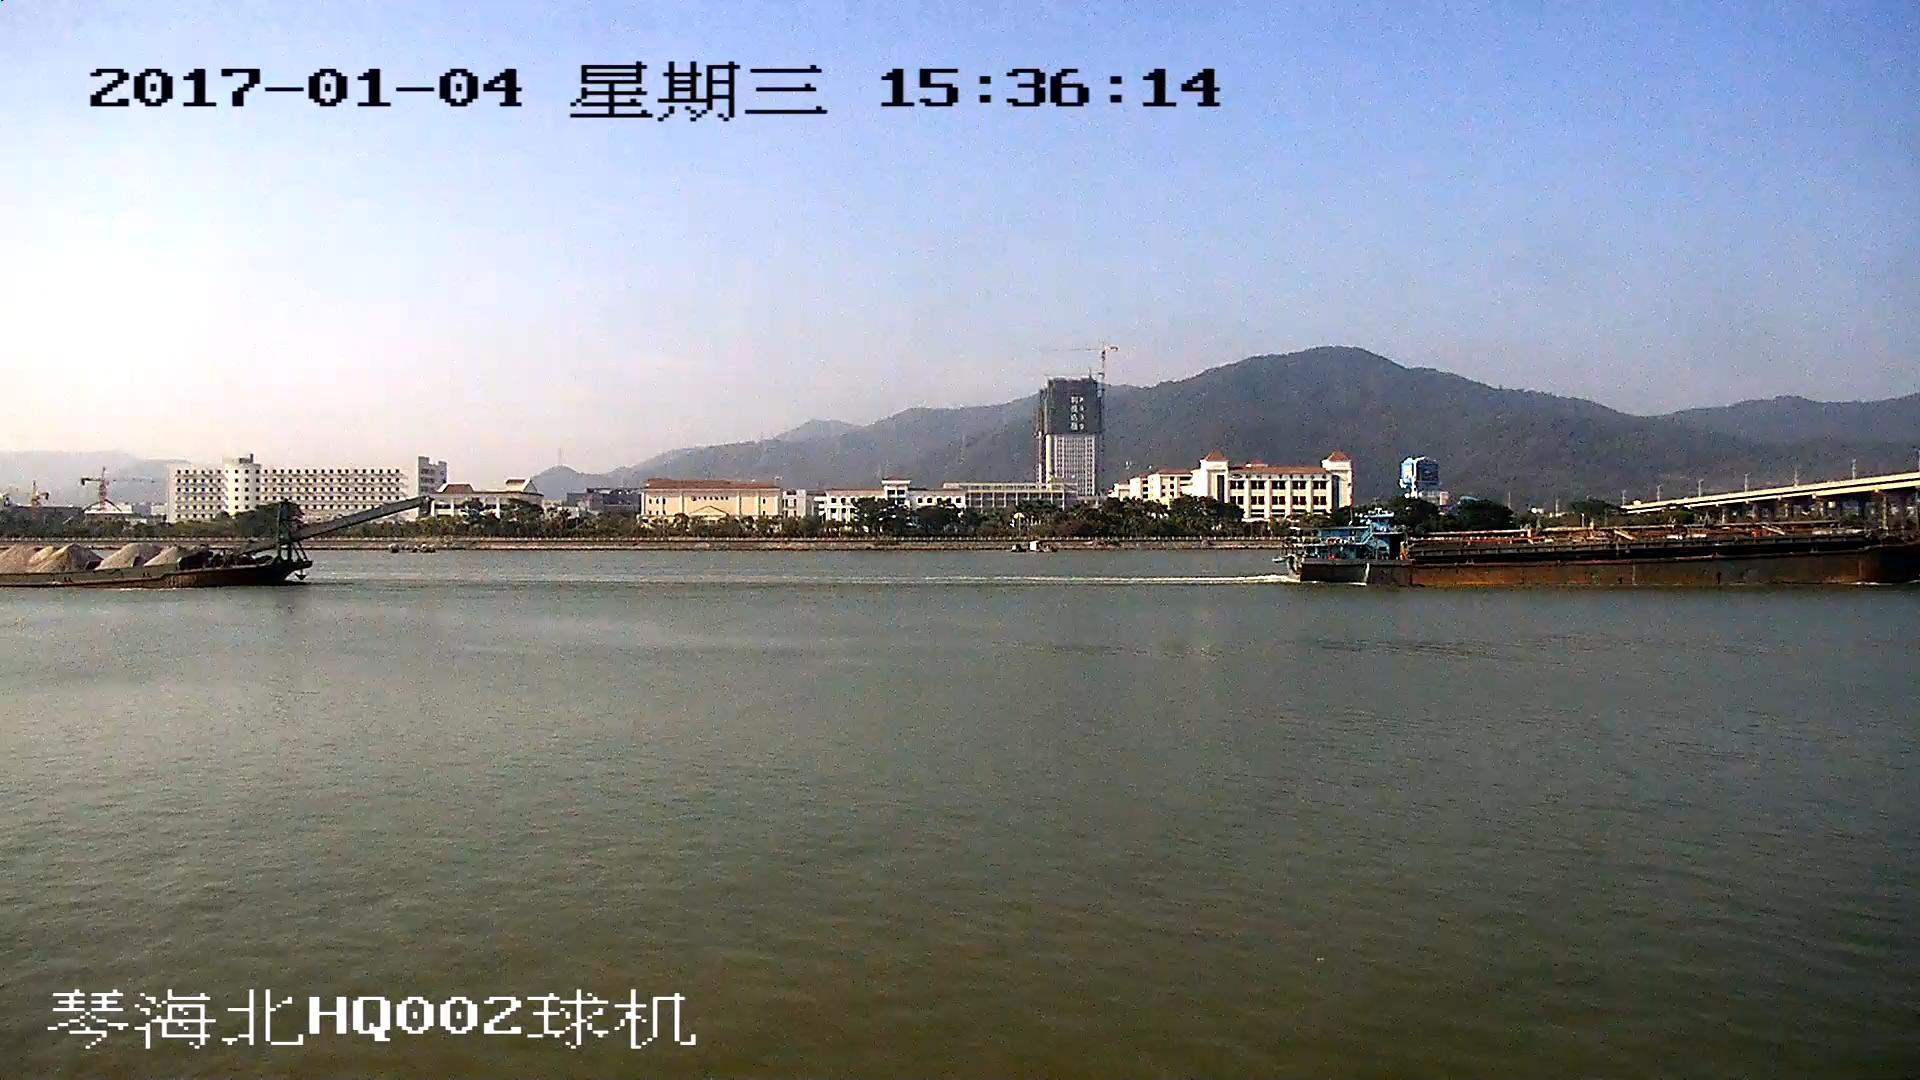Ship: (1284, 517, 1920, 595), (3, 501, 423, 585)
